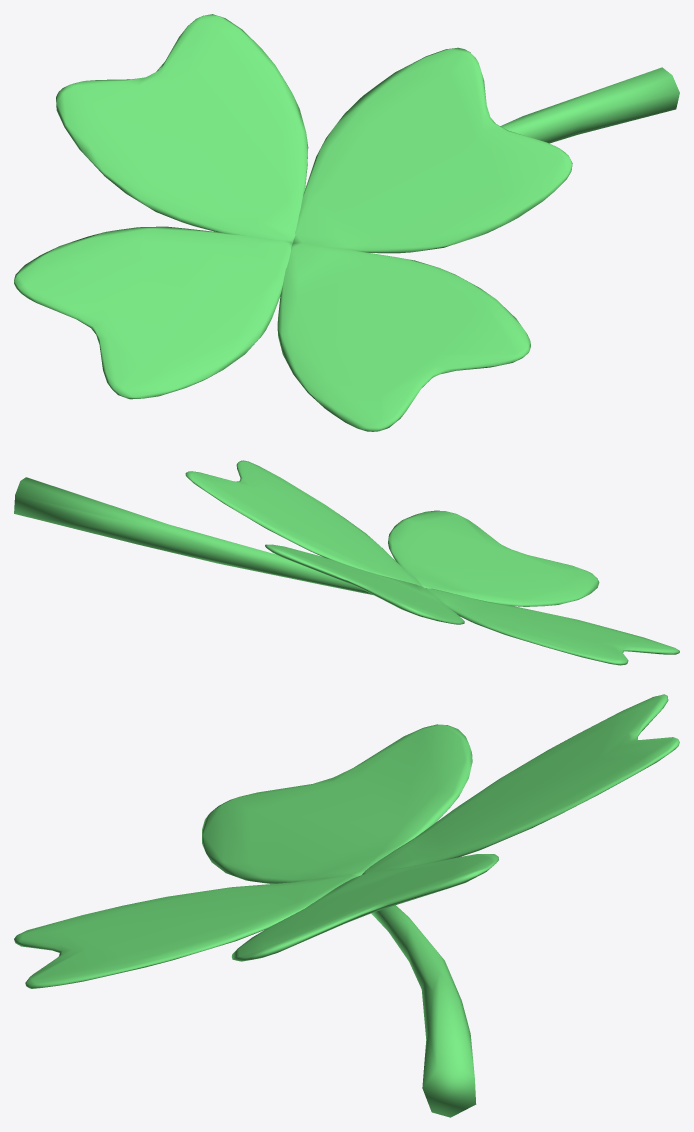
File: Trevo de Quatro Folhas.fbx
The picture shows the model from 3 angles, top to bottom: view 1: azimuth 30°, elevation 25°; view 2: azimuth 150°, elevation 25°; view 3: azimuth 270°, elevation 25°; orthographic projection. The views are drawn at different scales.
Parts seen in each view (by area): view 1: Trevo - Low; view 2: Trevo - Low; view 3: Trevo - Low.
Part boxes in pixels (left/top/right/bottom): Trevo - Low: left=14, top=14, right=679, bottom=431; Trevo - Low: left=14, top=460, right=679, bottom=665; Trevo - Low: left=14, top=694, right=679, bottom=1117.
Bounding box in the file's own units: 166 × 48.47 × 116.
